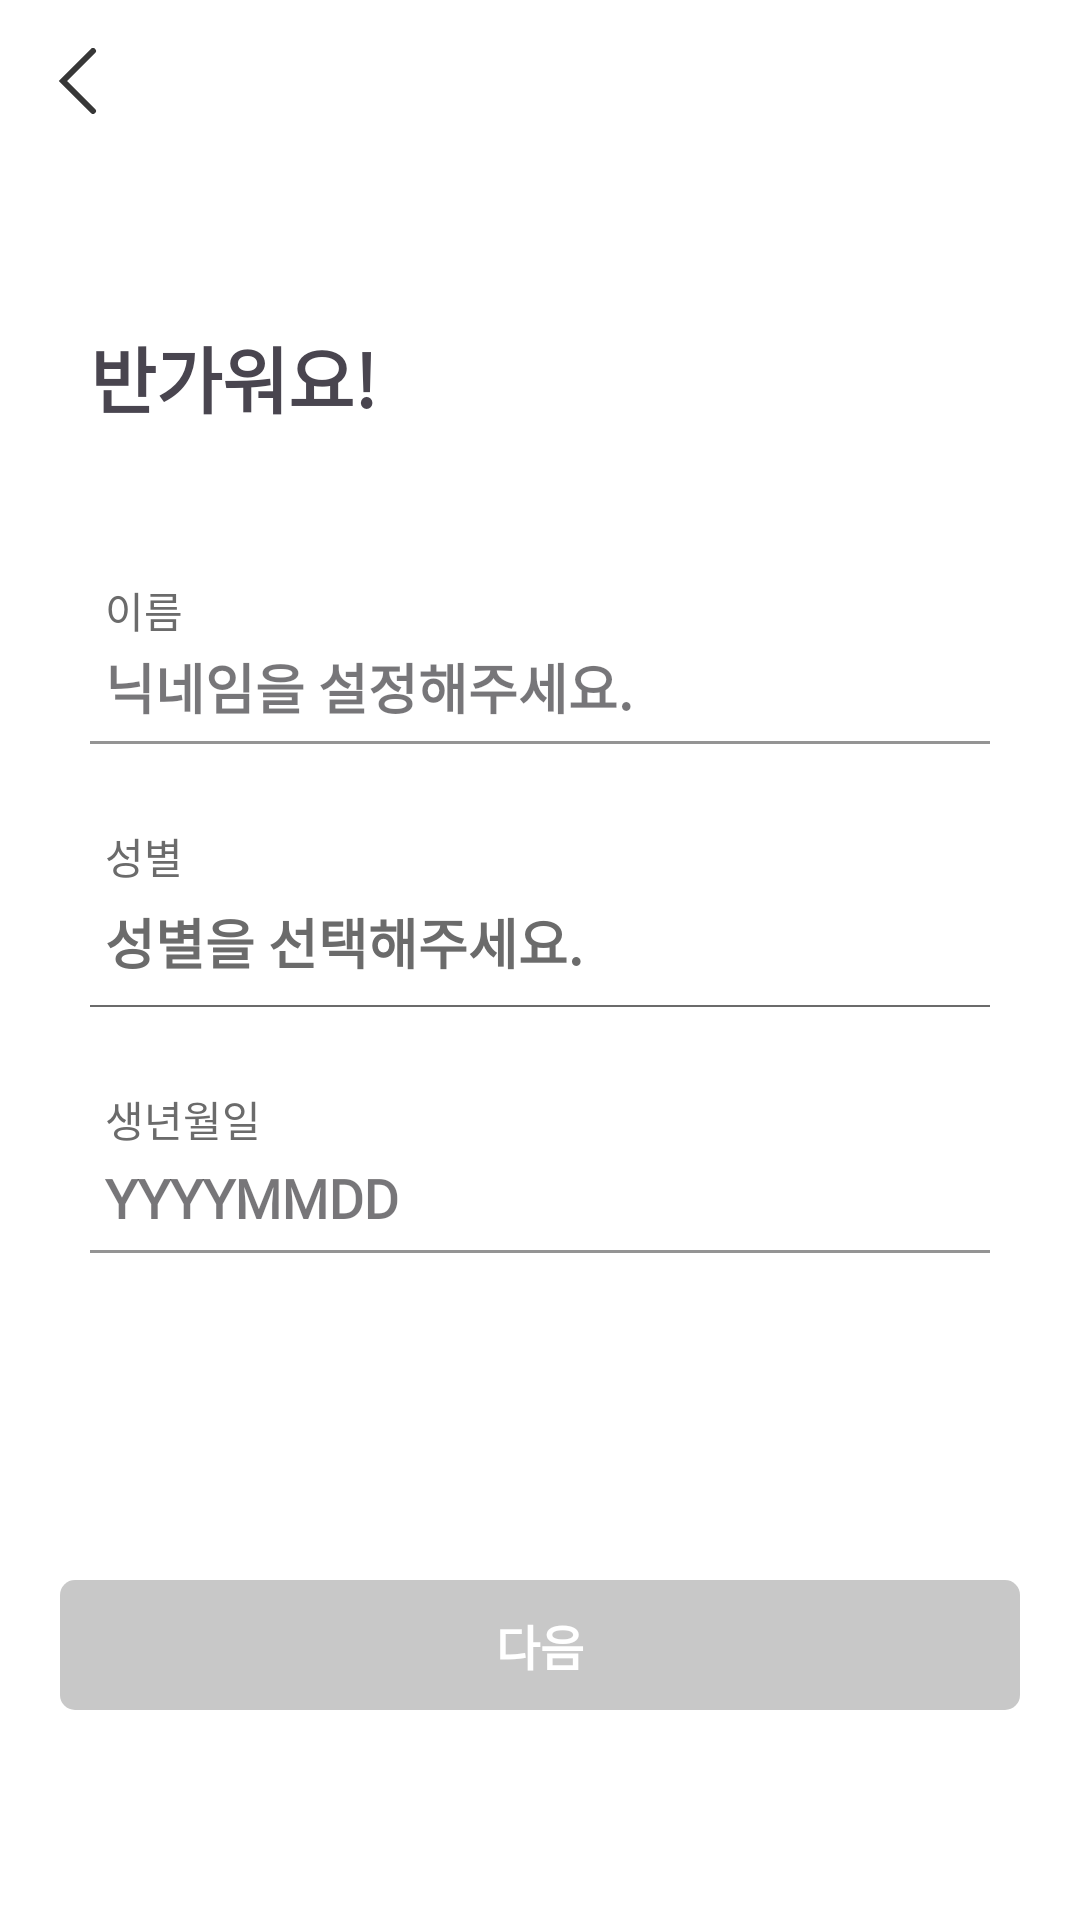

Screen size 1080 x 1920. Icon name, then its center in pixels as point (x, y):
back: point (77, 81)
